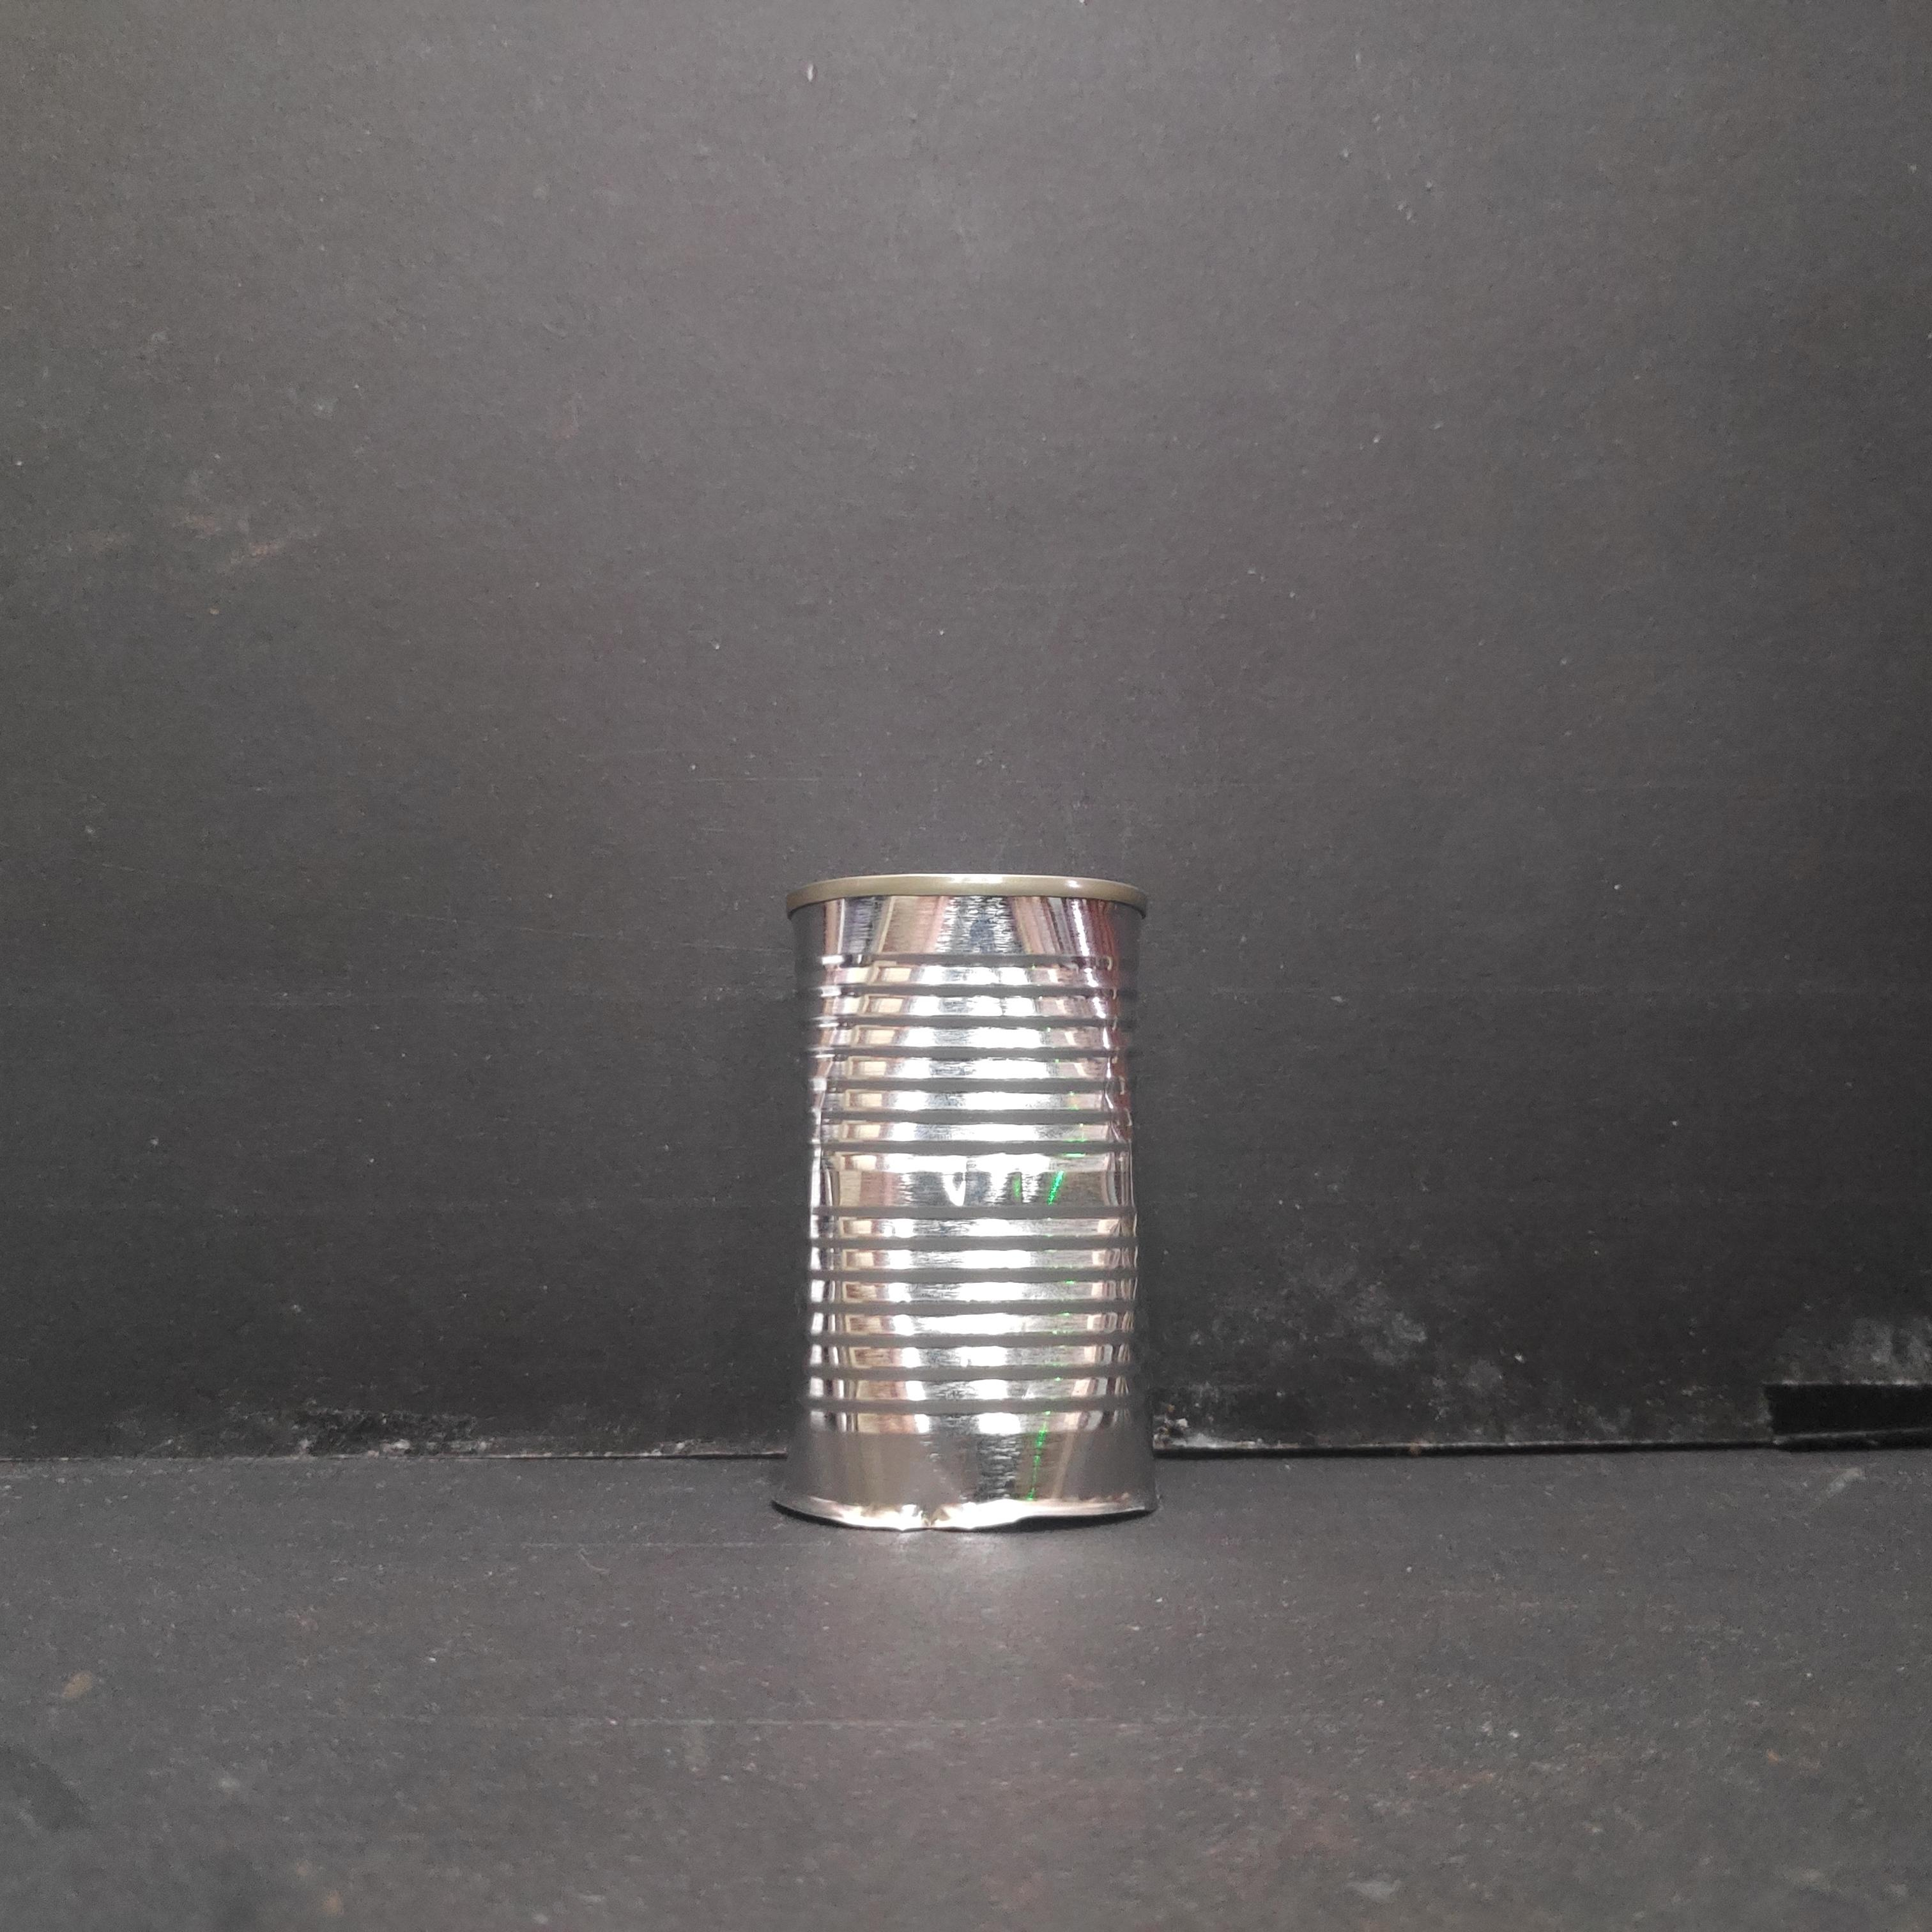Minor Defect: (771, 867, 1157, 1532)
